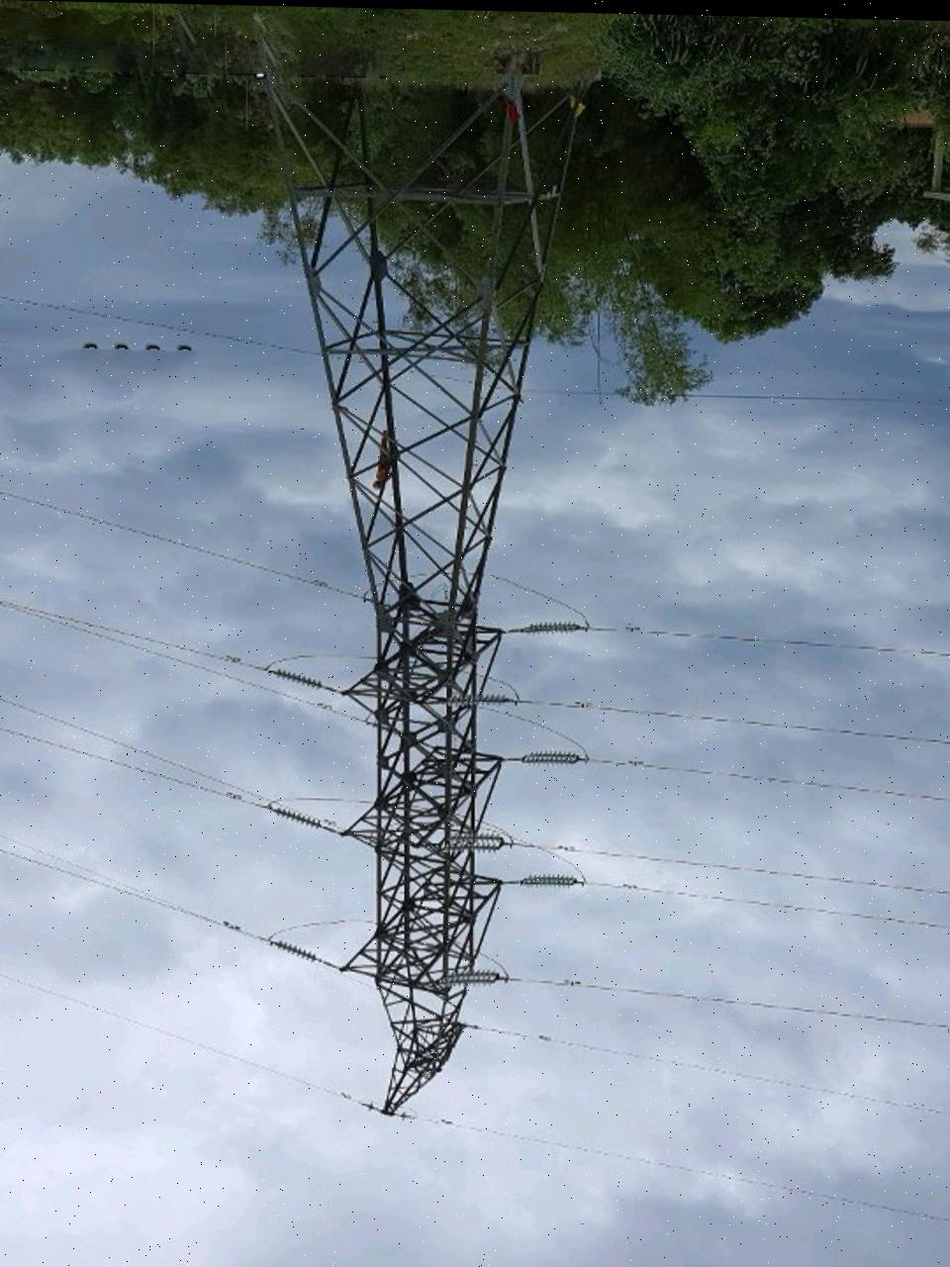tower: (224, 5, 610, 1137)
